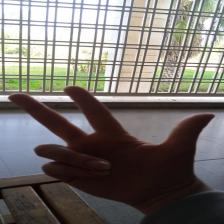three: (2, 83, 216, 187)
